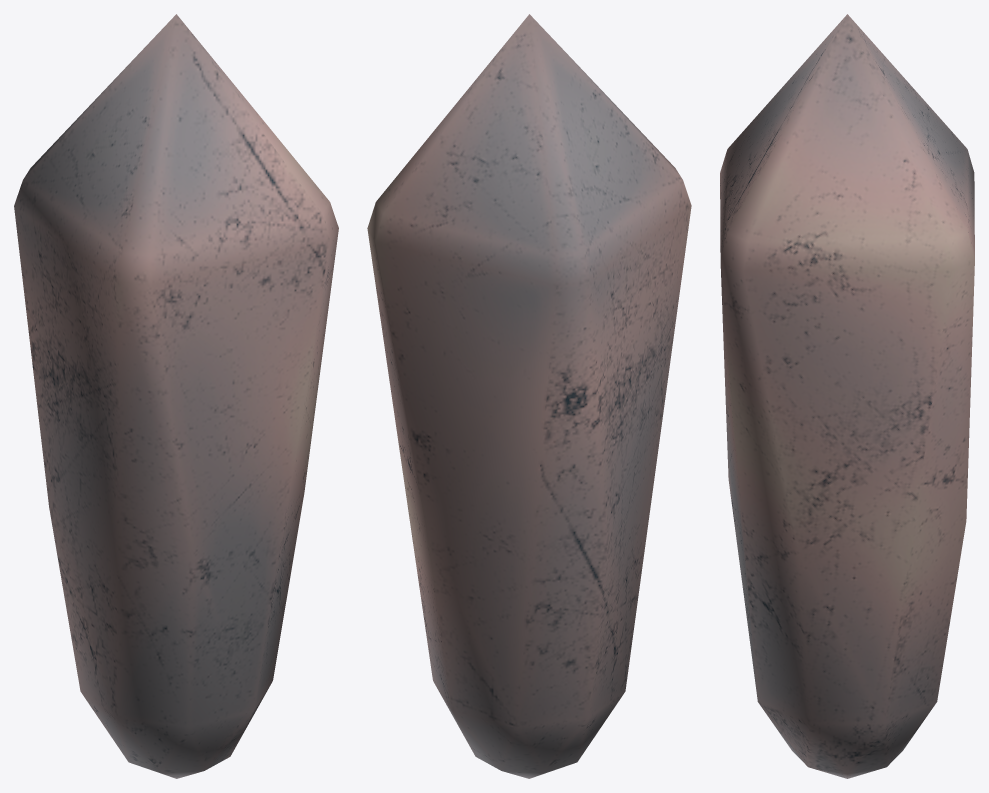
Rendered from SM_RefinedMineral_2.fbx.
The picture shows the model from 3 angles, left to right: view 1: azimuth 30°, elevation 25°; view 2: azimuth 150°, elevation 25°; view 3: azimuth 270°, elevation 25°; orthographic projection.
Parts seen in each view (by area): view 1: SM_RefinedMineral_2; view 2: SM_RefinedMineral_2; view 3: SM_RefinedMineral_2.
Part boxes in pixels (x1=…): SM_RefinedMineral_2: x1=14, y1=14, x2=338, y2=778; SM_RefinedMineral_2: x1=367, y1=14, x2=691, y2=778; SM_RefinedMineral_2: x1=720, y1=14, x2=974, y2=778.
Size of the model in its own units: 0.1813 by 0.1813 by 0.6002.
